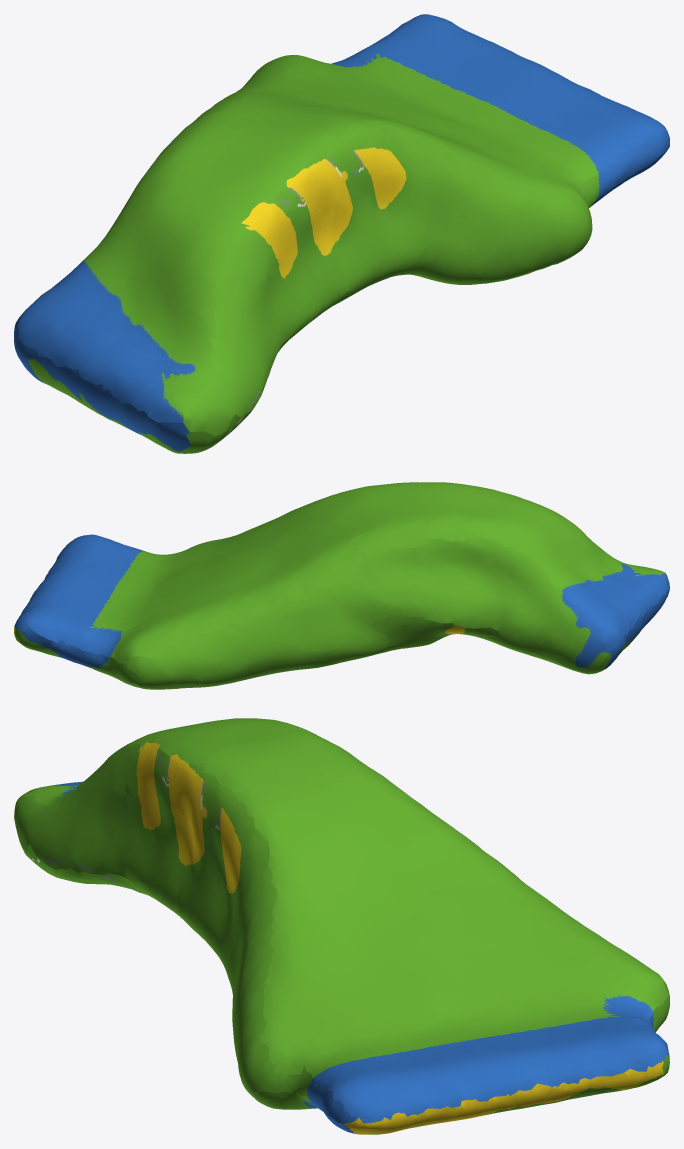
The model's file is highroller.glb.
3 renders of one model, top to bottom at view 1: azimuth 30°, elevation 25°; view 2: azimuth 150°, elevation 25°; view 3: azimuth 270°, elevation 25°, orthographic. The views are drawn at different scales.
Visible parts, largest first — view 1: geometry_0; view 2: geometry_0; view 3: geometry_0.
Part boxes in pixels (x1,y1,x2,y2): geometry_0: (14, 14, 669, 453); geometry_0: (14, 482, 669, 689); geometry_0: (14, 718, 669, 1134).
Size of the model in its own units: 0.8744 by 0.2355 by 0.6996.
1 material, 1 textured.
